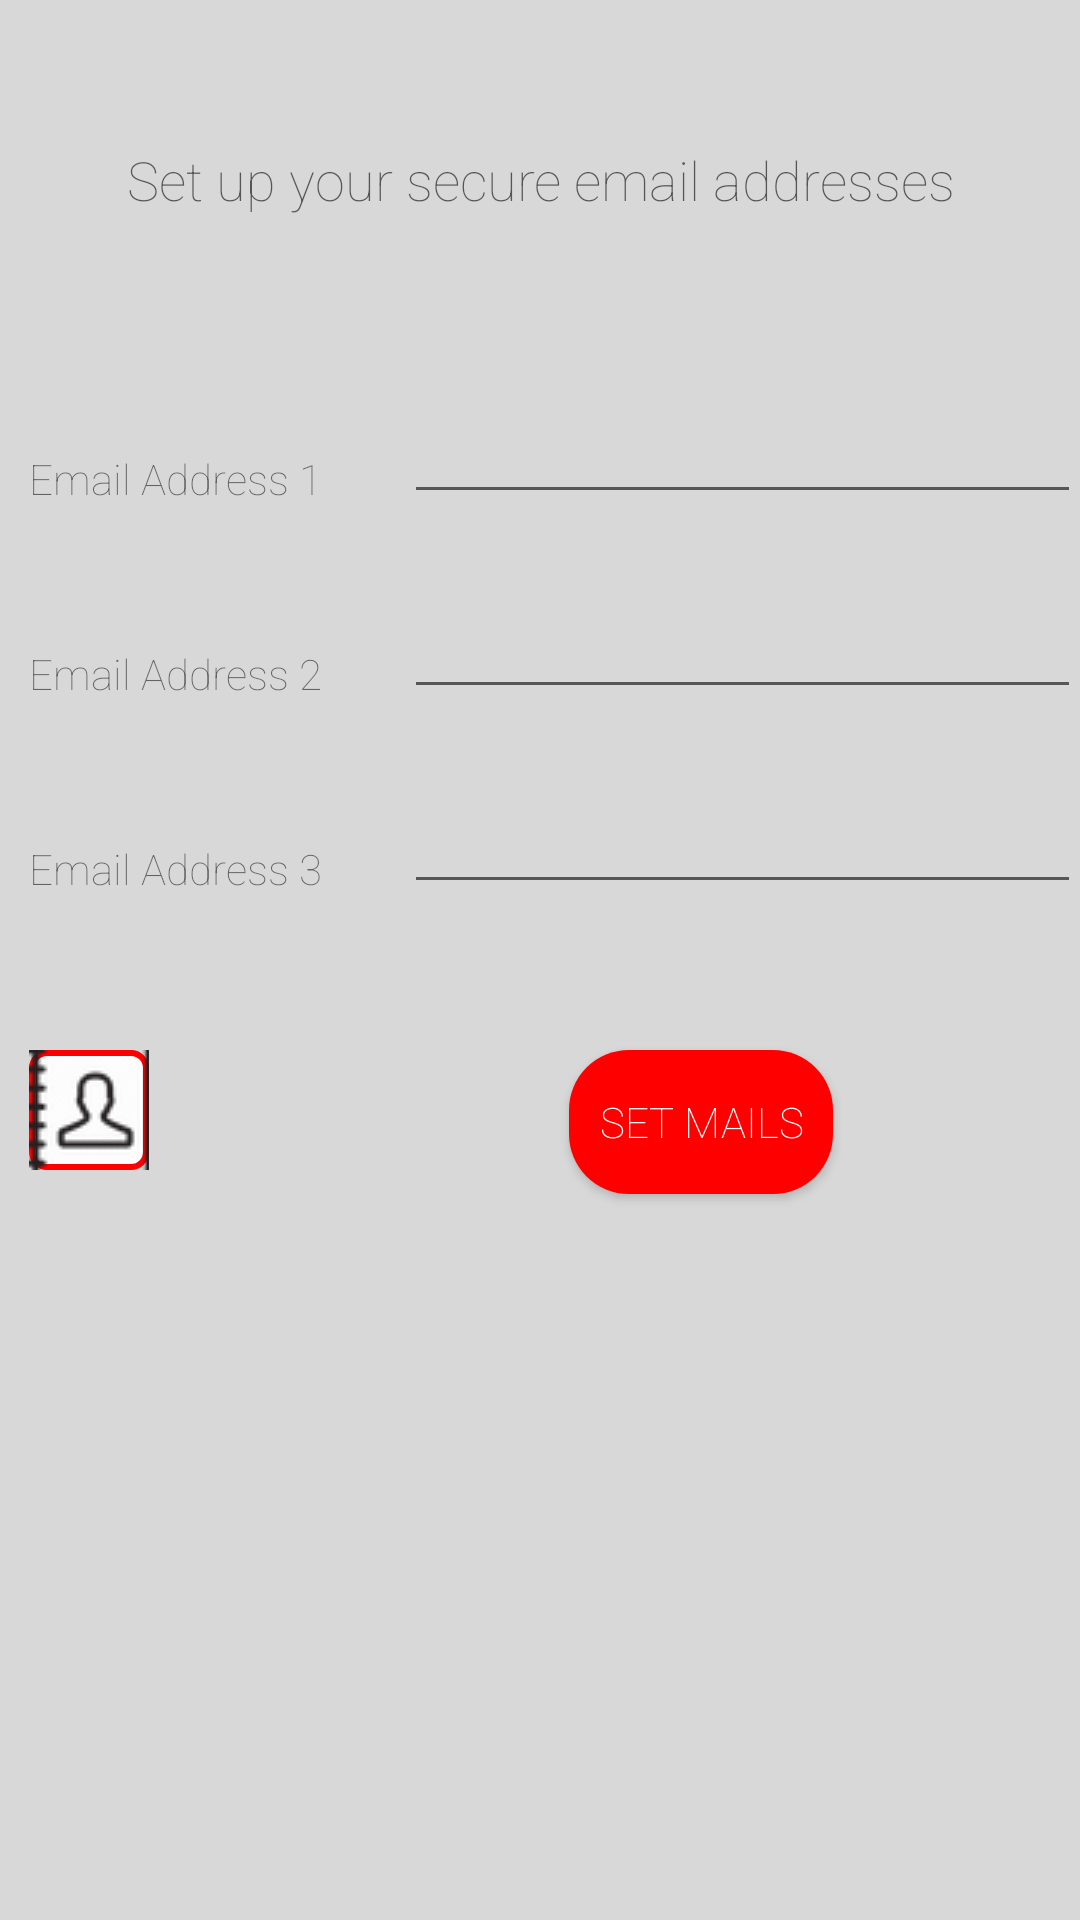

Point at icon controls on the screen. Image size 1080 x 1920, points as point (x, y).
rubrica: point (89, 1110)
